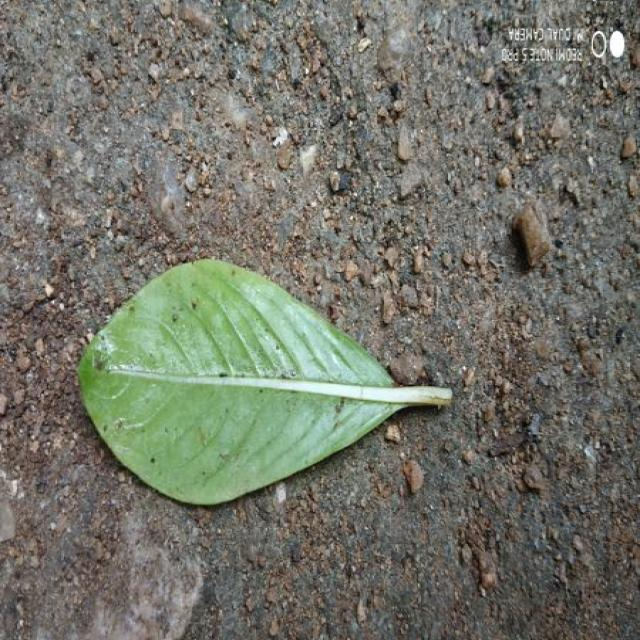catharanthus: (78, 260, 450, 504)
